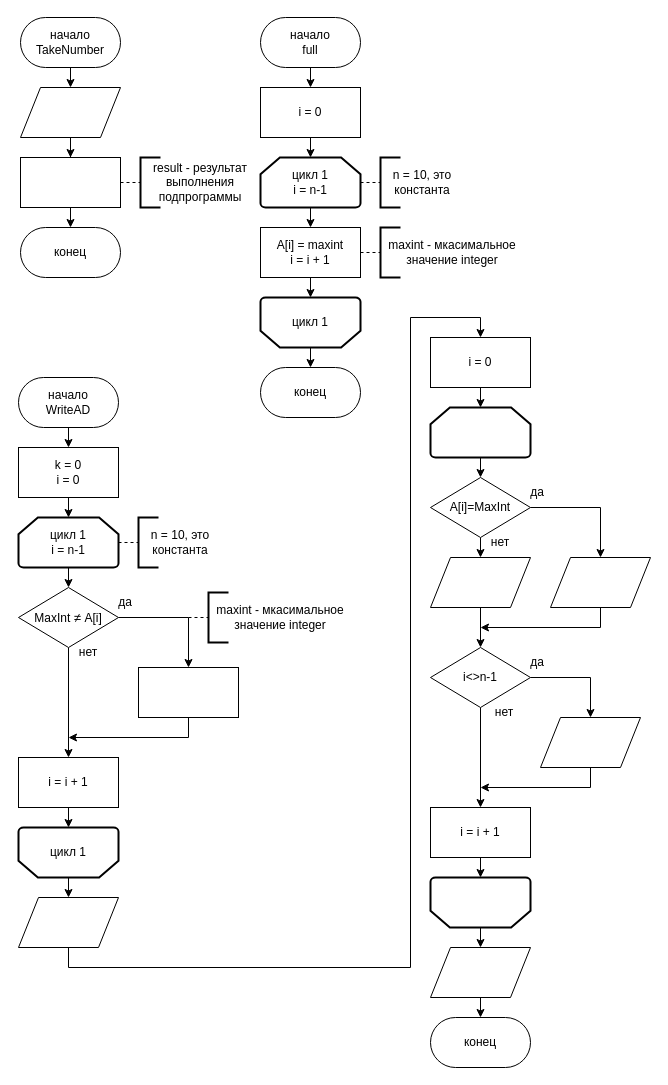
Image size: 668x1085. Some labels were removed from this diagram. Each missing label, with the centre of its shape:
k=k+1: point 188,692
result = a: point 70,182
Ввод: a: point 70,112
Вывод: =: point 590,742
Вывод: | x |: point 600,582
Вывод: |,A[i]:4,|: point 480,582
Вывод: верхних надчёркиваний: point 480,972
Вывод: нижних подчёркиваний: point 68,922
цикл 2: point 480,902
цикл 2 i = n-1: point 480,432
